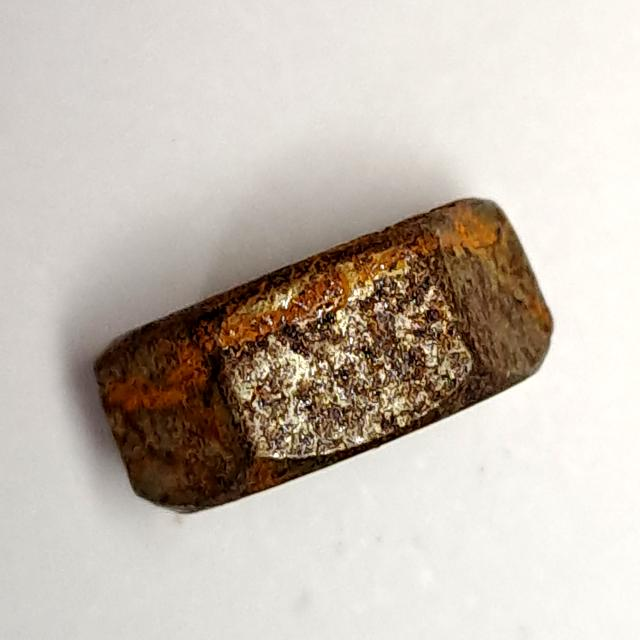Side_Rust: (83, 184, 564, 524)
